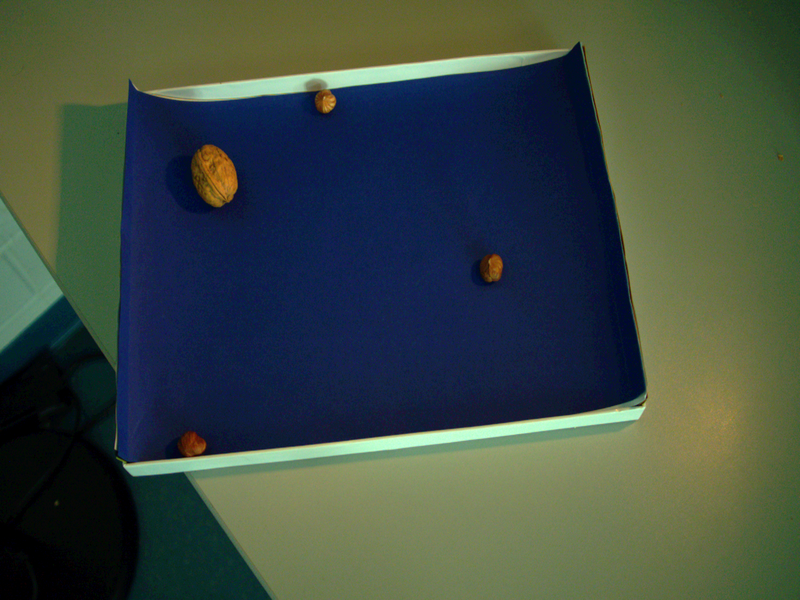walnut: (184, 141, 248, 213)
